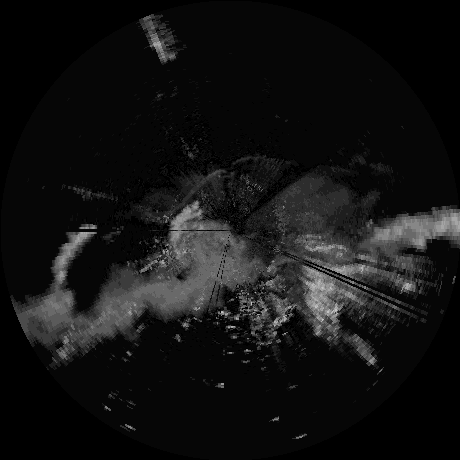frontgust: (169, 169, 224, 212), (237, 150, 286, 162)
